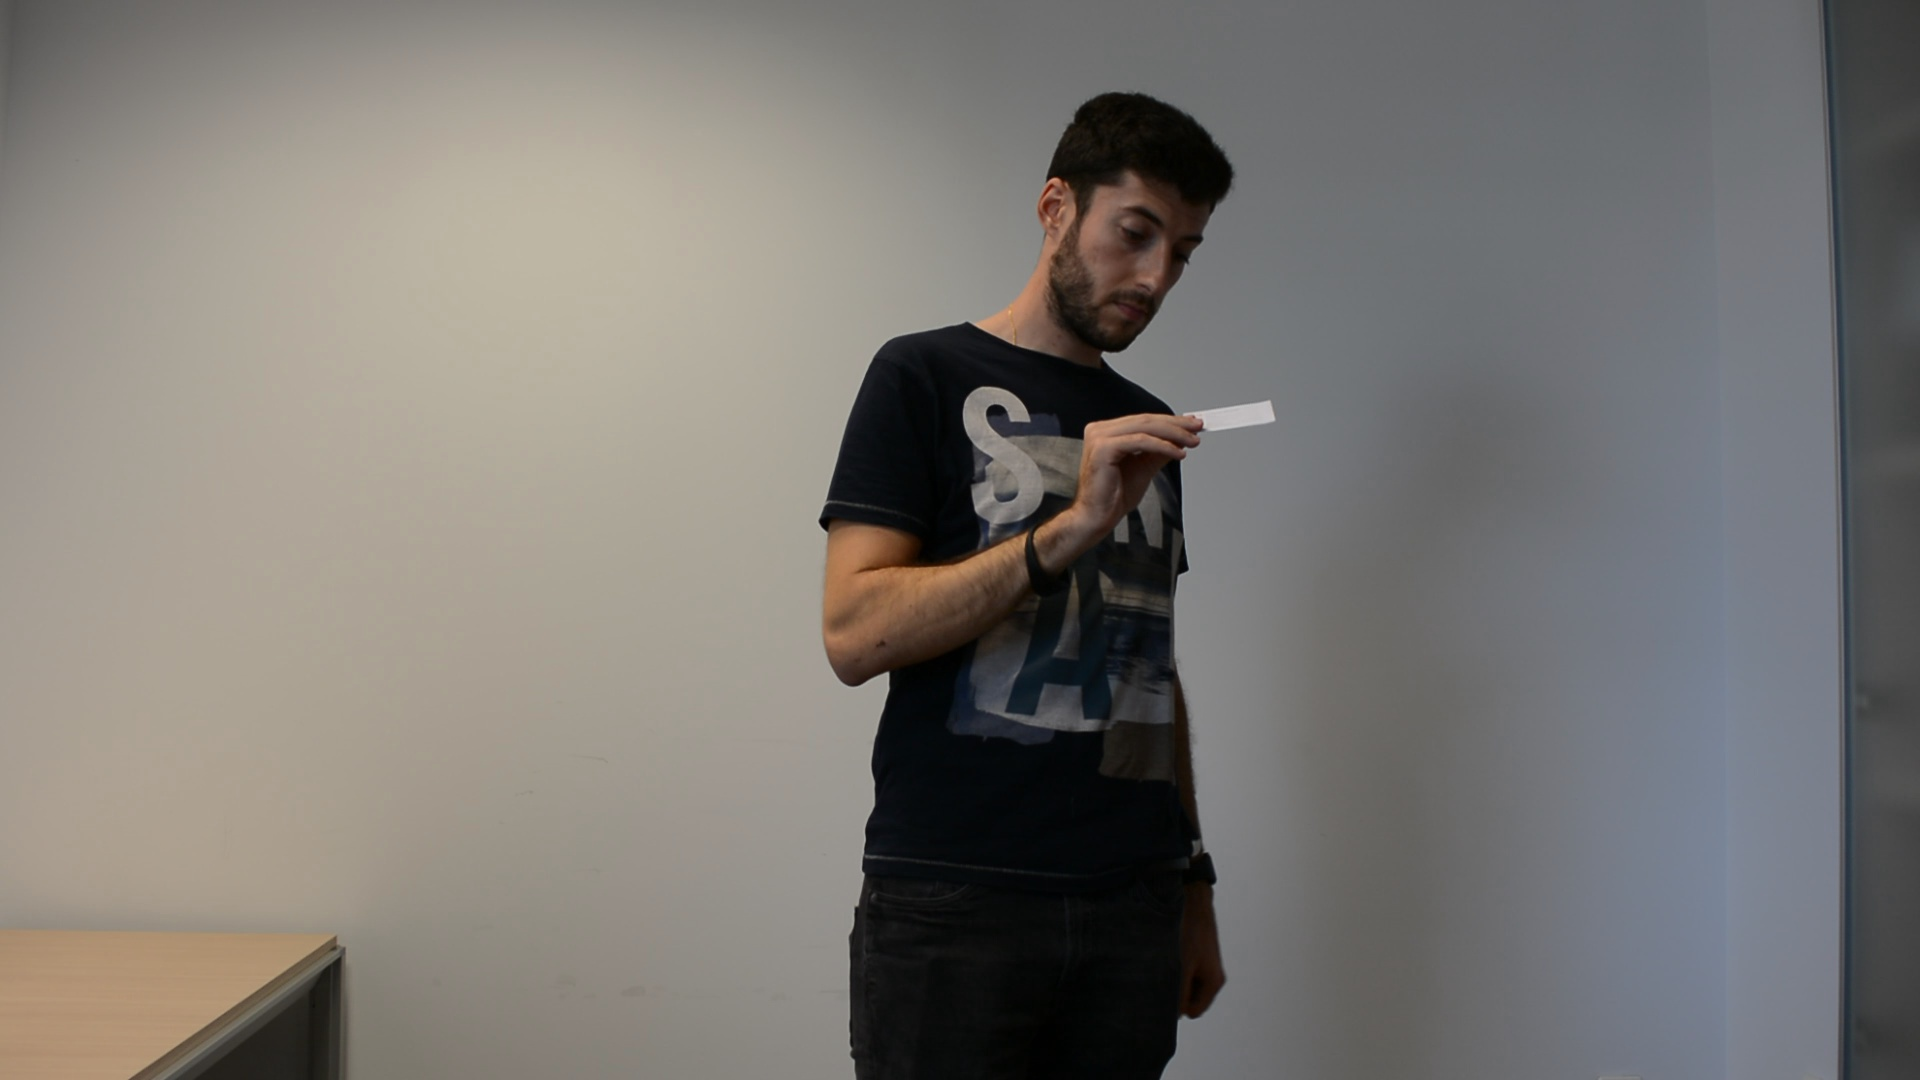tarjeta: (1179, 398, 1280, 434)
